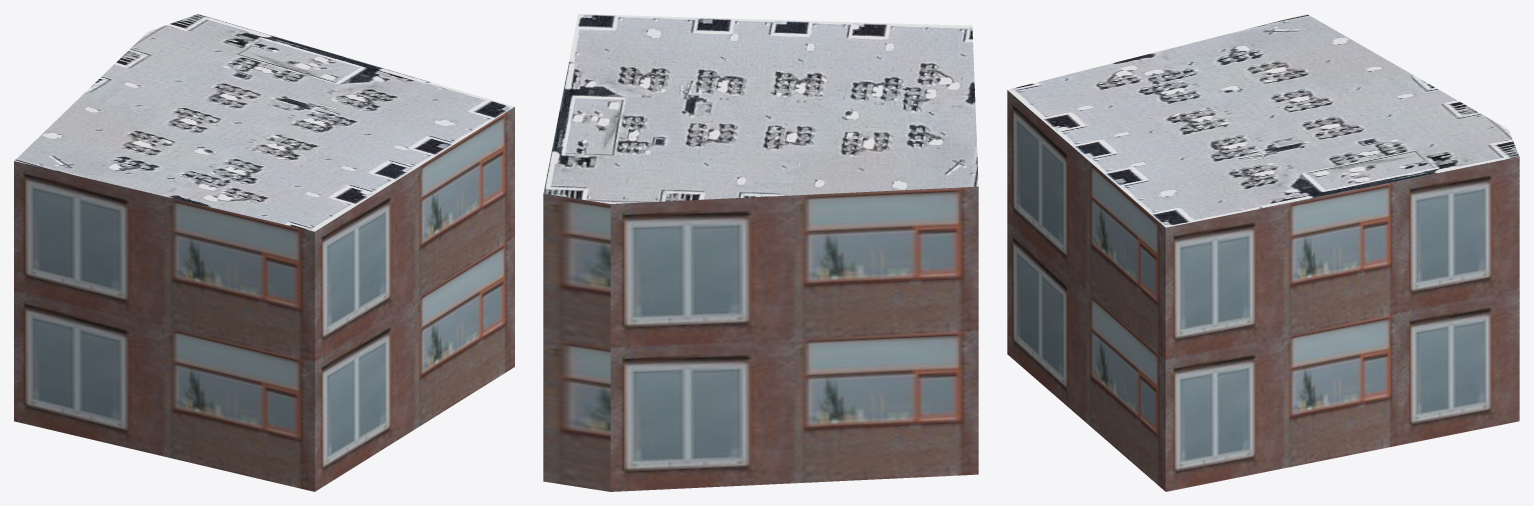
File: ResTex__2497.fbx
3 views of the same model, side by side, from view 1: azimuth 30°, elevation 25°; view 2: azimuth 150°, elevation 25°; view 3: azimuth 270°, elevation 25° (orthographic). The views are drawn at different scales.
Parts seen in each view (by area): view 1: CityEngineMaterial_19_m, CityEngineMaterial_15_m; view 2: CityEngineMaterial_19_m, CityEngineMaterial_15_m; view 3: CityEngineMaterial_19_m, CityEngineMaterial_15_m.
Part boxes in pixels (x1,y1,x2,y2): CityEngineMaterial_19_m: [14, 107, 514, 491]; CityEngineMaterial_15_m: [14, 14, 514, 231]; CityEngineMaterial_19_m: [543, 186, 978, 491]; CityEngineMaterial_15_m: [543, 14, 978, 203]; CityEngineMaterial_19_m: [1007, 90, 1519, 491]; CityEngineMaterial_15_m: [1008, 14, 1519, 227].
Bounding box in the file's own units: 10.41 × 6 × 10.55.
Materials: 2 (2 with a texture image).
